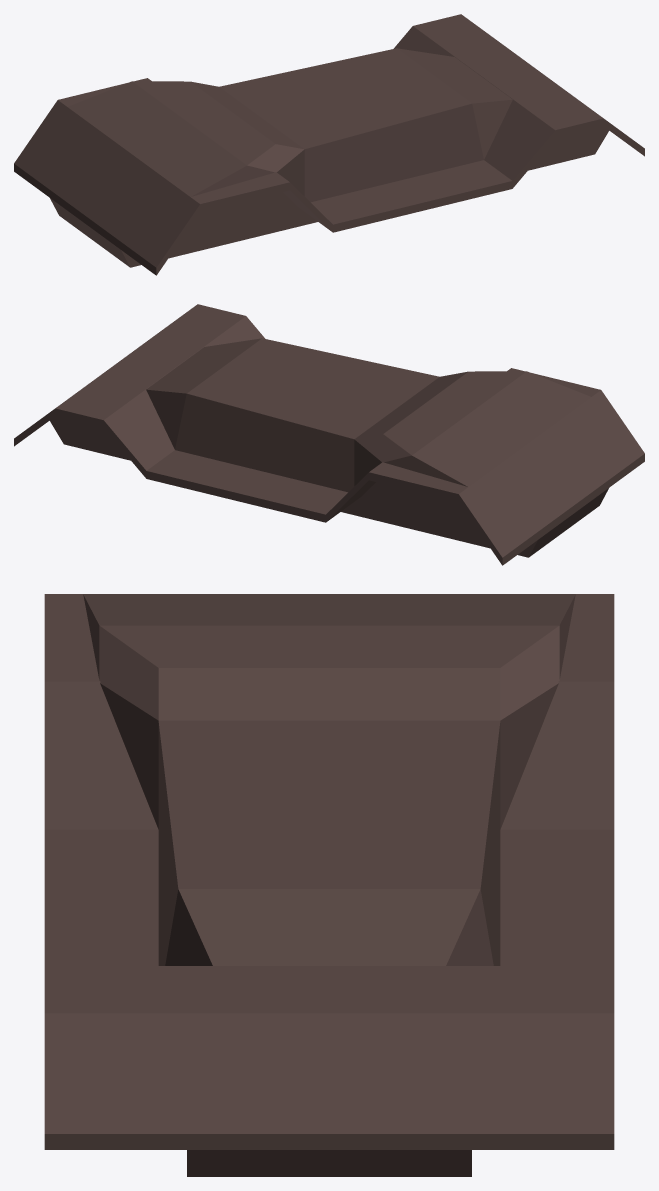
The model's file is car.obj.
3 views of the same model, one above another, from view 1: azimuth 30°, elevation 25°; view 2: azimuth 150°, elevation 25°; view 3: azimuth 270°, elevation 25° (orthographic). The views are drawn at different scales.
Visible parts, largest first — view 1: Cube; view 2: Cube; view 3: Cube.
Boxes of the visible parts, bbox=[...] form: Cube: bbox=[14, 14, 644, 275]; Cube: bbox=[14, 304, 644, 565]; Cube: bbox=[44, 594, 614, 1176].
Bounding box in the file's own units: 7.47 × 1.39 × 3.77.
